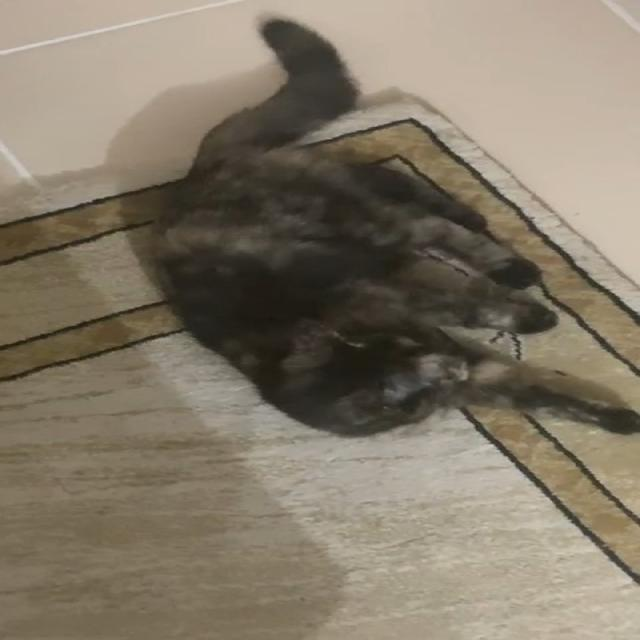authorized: (145, 13, 639, 438)
